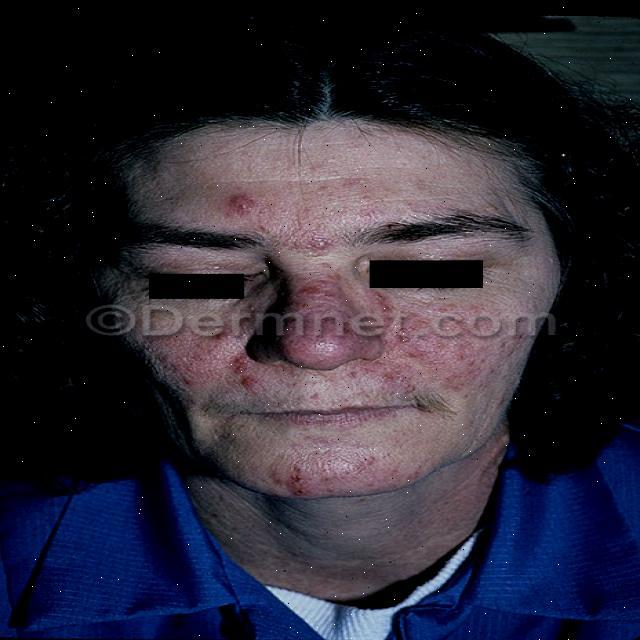images: (1, 7, 638, 638)
